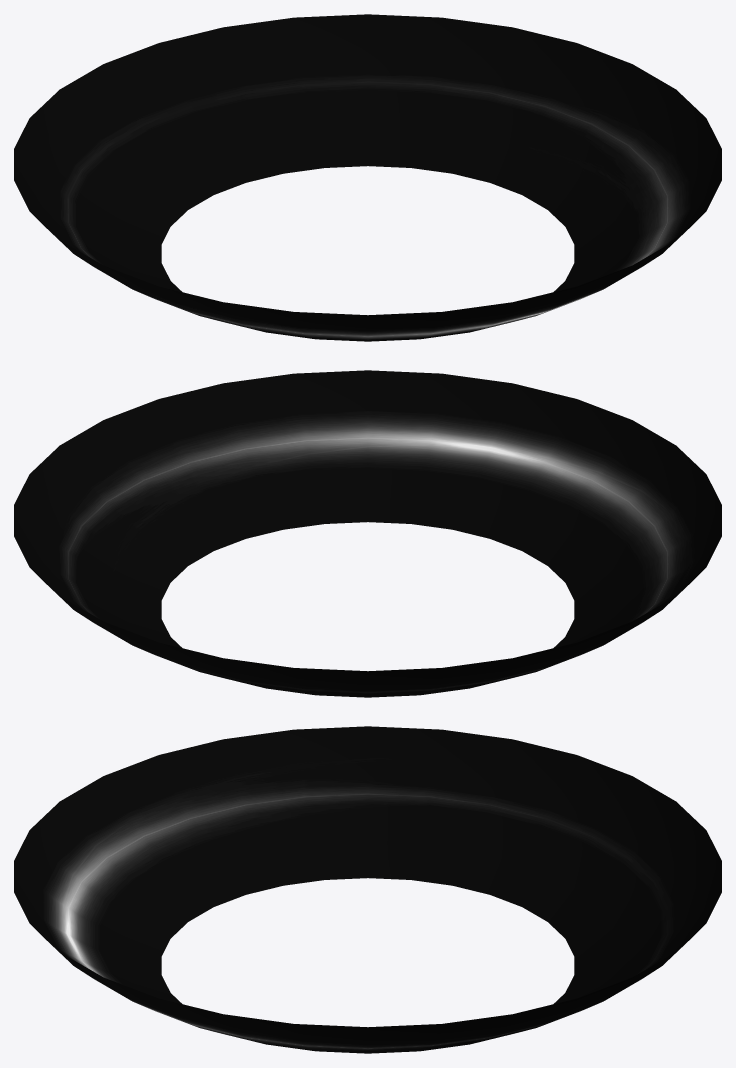
File: 0238_boerkai_01.glb
3 views of the same model, one above another, from view 1: azimuth 30°, elevation 25°; view 2: azimuth 150°, elevation 25°; view 3: azimuth 270°, elevation 25° (orthographic).
Size of the model in its own units: 2.2 by 0.3036 by 2.19.
Materials: 1 (1 with a texture image).
